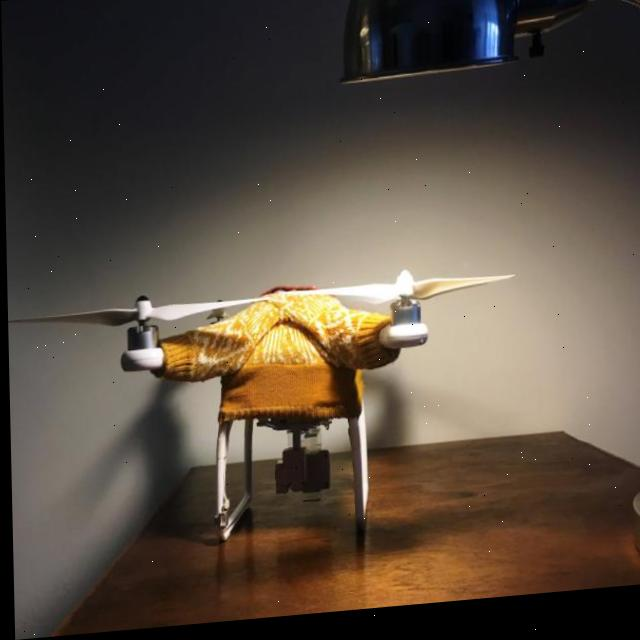drones: (19, 162, 552, 615)
